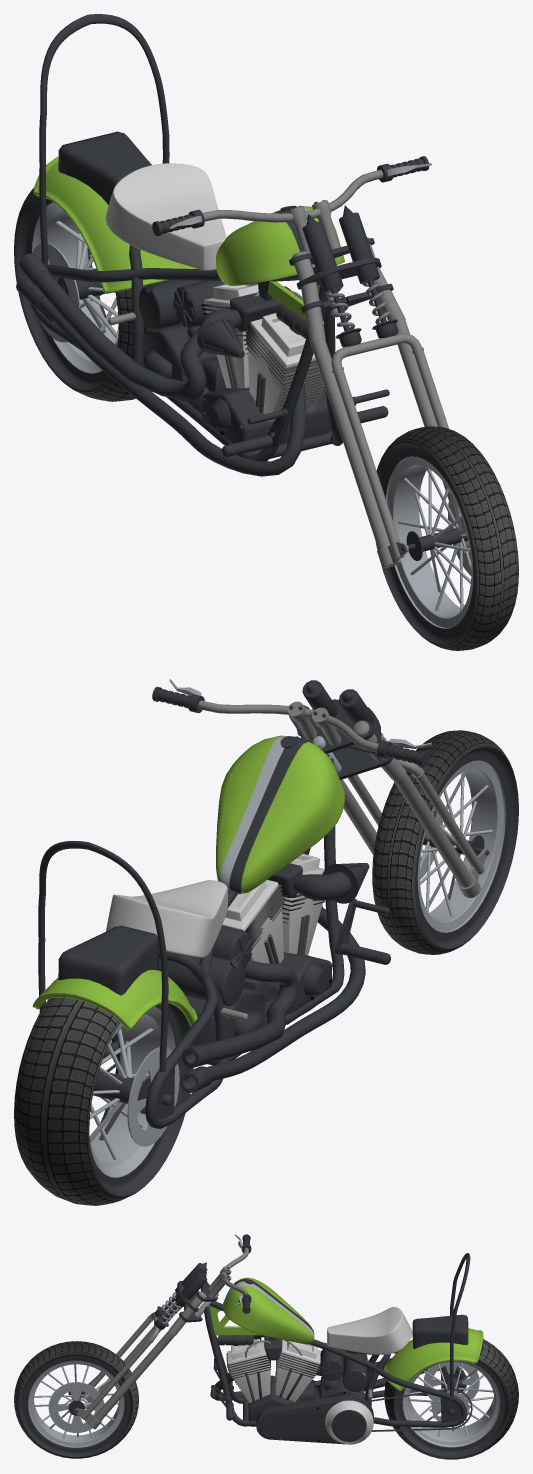
Rendered from Chopper.fbx.
The picture shows the model from 3 angles, top to bottom: view 1: azimuth 30°, elevation 25°; view 2: azimuth 150°, elevation 25°; view 3: azimuth 270°, elevation 25°; orthographic projection. The views are drawn at different scales.
Parts seen in each view (by area): view 1: Body1, front_tire1, polySurface18, _back_tire; view 2: Body1, _back_tire, front_tire1, polySurface18; view 3: Body1, front_tire1, _back_tire, polySurface18.
Part boxes in pixels (left/top/right/bottom): Body1: left=16, top=14, right=389, bottom=476; front_tire1: left=375, top=426, right=518, bottom=650; polySurface18: left=152, top=156, right=469, bottom=568; _back_tire: left=14, top=188, right=171, bottom=401; Body1: left=32, top=735, right=390, bottom=1128; _back_tire: left=14, top=997, right=193, bottom=1205; front_tire1: left=372, top=730, right=518, bottom=954; polySurface18: left=152, top=679, right=488, bottom=897; Body1: left=204, top=1253, right=483, bottom=1444; front_tire1: left=14, top=1341, right=138, bottom=1458; _back_tire: left=384, top=1339, right=518, bottom=1459; polySurface18: left=74, top=1234, right=251, bottom=1429.
Bounding box in the file's own units: 86.17 × 111 × 254.
